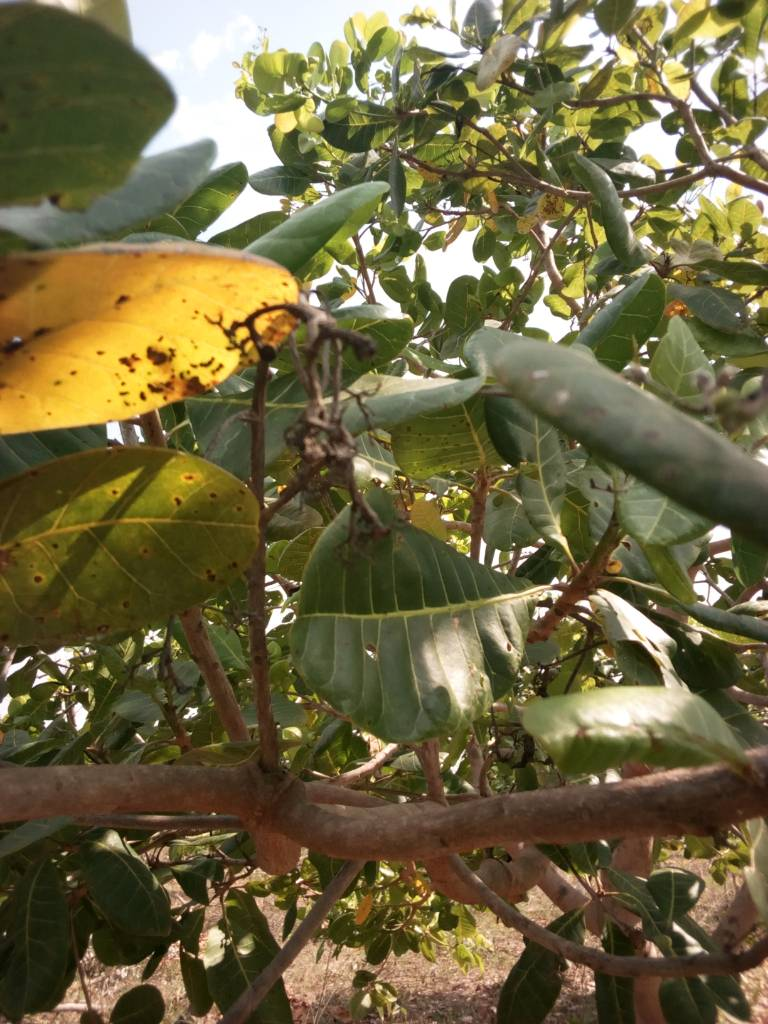Dessèchement des bourgeons: (255, 297, 390, 555)
